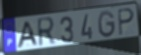3: (59, 16, 74, 44)
4: (81, 13, 94, 40)
A: (16, 20, 40, 50)
G: (97, 9, 117, 39)
P: (117, 7, 136, 37)
R: (36, 16, 57, 50)
